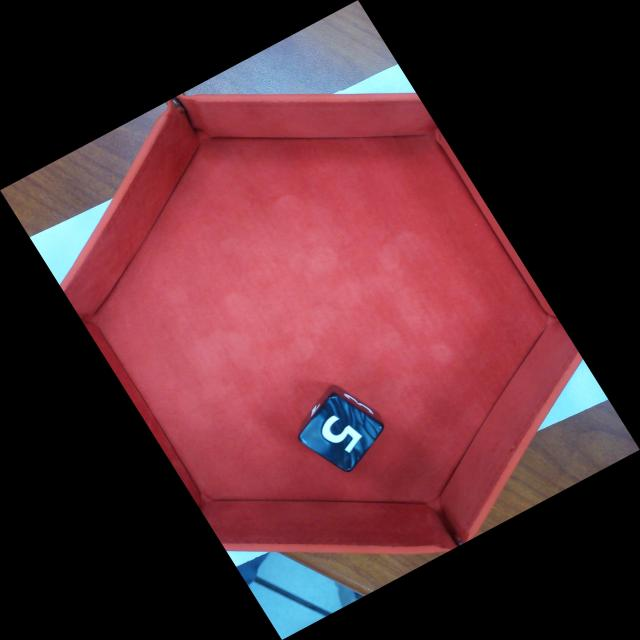dice: (298, 393, 385, 473)
